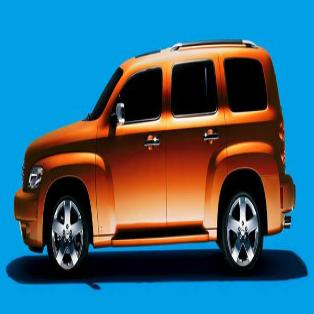Auto: (12, 37, 297, 284)
